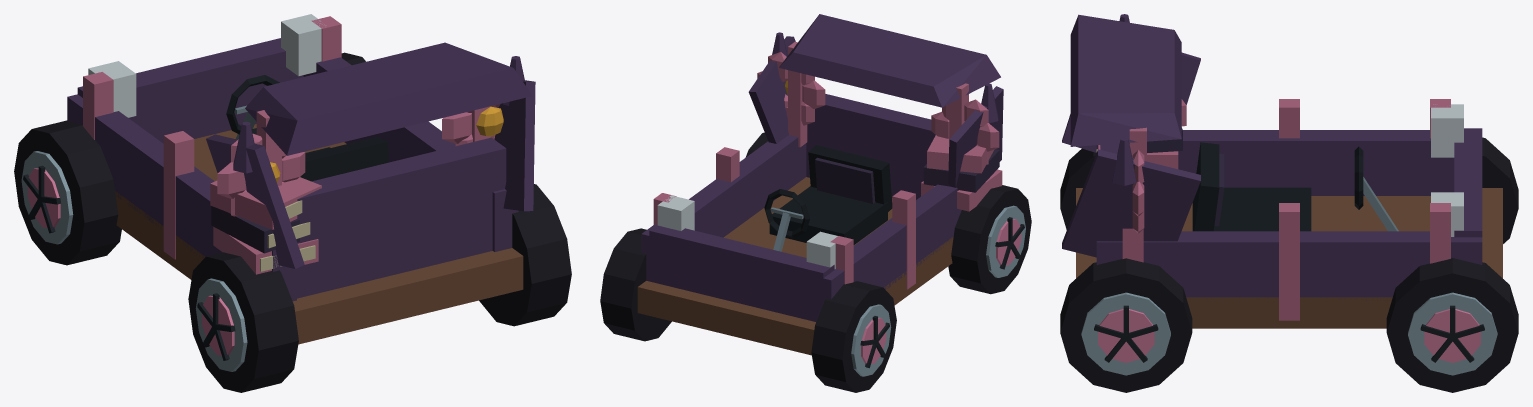
The model's file is kart.glb.
The picture shows the model from 3 angles, left to right: view 1: azimuth 30°, elevation 25°; view 2: azimuth 150°, elevation 25°; view 3: azimuth 270°, elevation 25°; orthographic projection. The views are drawn at different scales.
Visible parts, largest first — view 1: identity-carriage-carriage-timber-coach, wheel-rear-left, wheel-front-left, identity-carriage-motif-bat-fins, wheel-rear-right, identity-carriage-motif-books, identity-carriage-driver-cockpit, identity-carriage-motif-flowers; view 2: identity-carriage-carriage-timber-coach, identity-carriage-driver-cockpit, wheel-front-left, wheel-rear-left, identity-carriage-motif-bat-fins, wheel-front-right, identity-carriage-motif-books, identity-carriage-motif-flowers; view 3: identity-carriage-carriage-timber-coach, wheel-front-right, wheel-rear-right, identity-carriage-motif-bat-fins, identity-carriage-driver-cockpit, wheel-front-left, wheel-rear-left, identity-carriage-motif-books, identity-carriage-motif-flowers.
Part boxes in pixels (<box>): identity-carriage-carriage-timber-coach: <box>67,14,532,344</box>; wheel-rear-left: <box>188,252,298,392</box>; wheel-front-left: <box>14,120,121,265</box>; identity-carriage-motif-bat-fins: <box>206,56,535,268</box>; wheel-rear-right: <box>479,184,571,326</box>; identity-carriage-motif-books: <box>210,177,321,274</box>; identity-carriage-driver-cockpit: <box>226,75,388,181</box>; identity-carriage-motif-flowers: <box>217,104,503,216</box>; identity-carriage-carriage-timber-coach: <box>637,14,1000,355</box>; identity-carriage-driver-cockpit: <box>764,145,892,251</box>; wheel-front-left: <box>811,281,896,392</box>; wheel-rear-left: <box>948,185,1031,294</box>; identity-carriage-motif-bat-fins: <box>748,32,1003,187</box>; wheel-front-right: <box>600,228,671,341</box>; identity-carriage-motif-books: <box>921,135,1002,211</box>; identity-carriage-motif-flowers: <box>757,52,999,164</box>; identity-carriage-carriage-timber-coach: <box>1070,14,1502,328</box>; wheel-front-right: <box>1386,258,1518,392</box>; wheel-rear-right: <box>1060,258,1192,392</box>; identity-carriage-motif-bat-fins: <box>1062,14,1200,257</box>; identity-carriage-driver-cockpit: <box>1192,142,1398,231</box>; wheel-front-left: <box>1482,137,1518,243</box>; wheel-rear-left: <box>1060,148,1096,229</box>; identity-carriage-motif-books: <box>1096,99,1186,168</box>; identity-carriage-motif-flowers: <box>1132,150,1144,233</box>.
Size of the model in its own units: 2.07 by 1.63 by 2.64.
